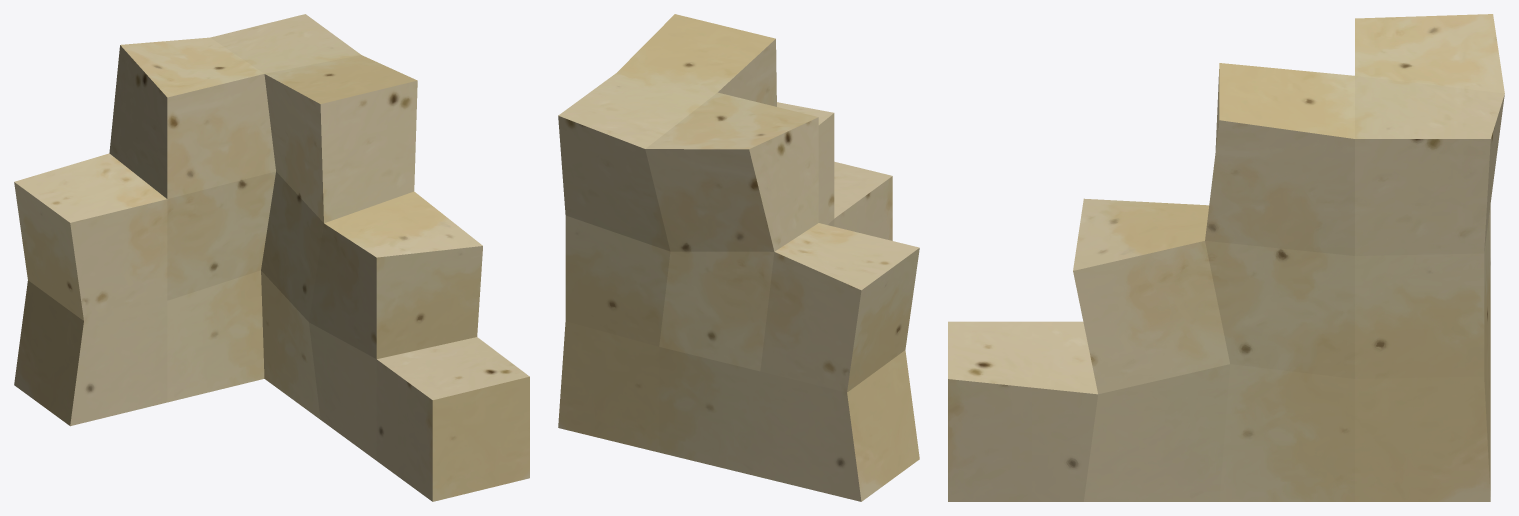
File: ruines_vol1.fbx
3 renders of one model, left to right at view 1: azimuth 30°, elevation 25°; view 2: azimuth 150°, elevation 25°; view 3: azimuth 270°, elevation 25°, orthographic. The views are drawn at different scales.
Visible parts, largest first — view 1: Cube; view 2: Cube; view 3: Cube.
Part boxes in pixels (left/top/right/bottom): Cube: left=14, top=14, right=529, bottom=501; Cube: left=558, top=14, right=919, bottom=501; Cube: left=948, top=14, right=1504, bottom=501.
Size of the model in its own units: 410 by 310 by 310.
Materials: 1 (1 with a texture image).
